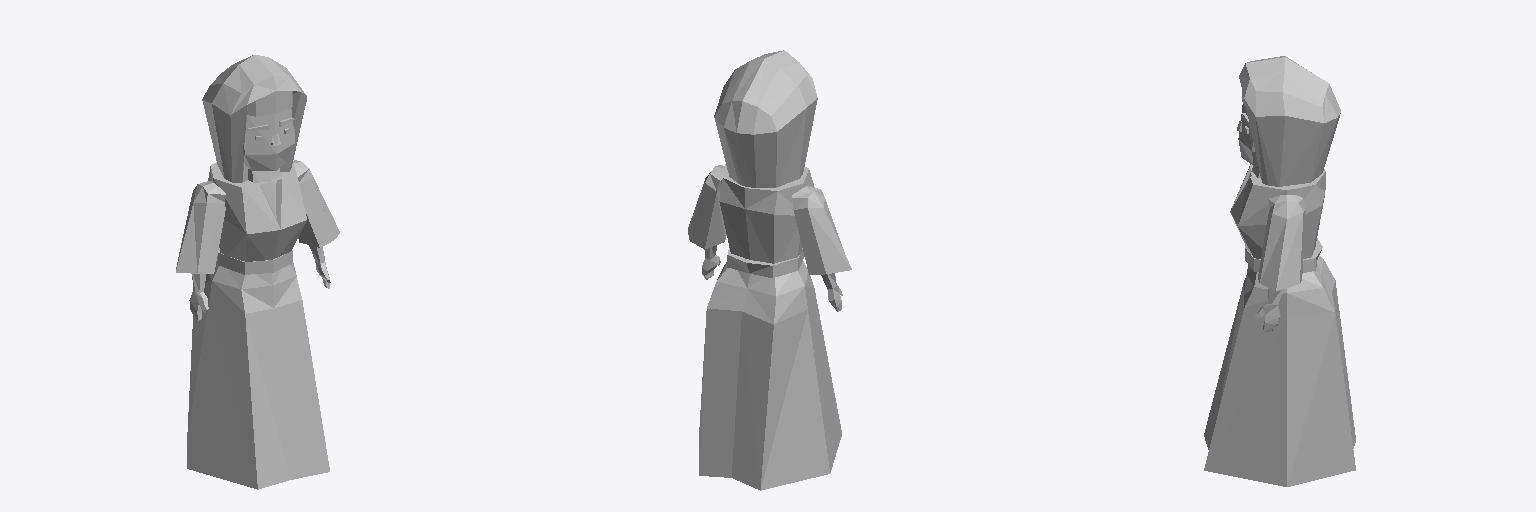
File: royal female1.obj
3 renders of one model, left to right at view 1: azimuth 30°, elevation 25°; view 2: azimuth 150°, elevation 25°; view 3: azimuth 270°, elevation 25°, orthographic.
Visible parts, largest first — view 1: royal_female1_Mesh1_Model; view 2: royal_female1_Mesh1_Model; view 3: royal_female1_Mesh1_Model.
Part boxes in pixels (x1,y1,x2,y2): royal_female1_Mesh1_Model: (176, 55, 339, 489); royal_female1_Mesh1_Model: (688, 50, 851, 490); royal_female1_Mesh1_Model: (1204, 56, 1355, 486).
Bounding box in the file's own units: 0.6803 × 1.57 × 0.5444.